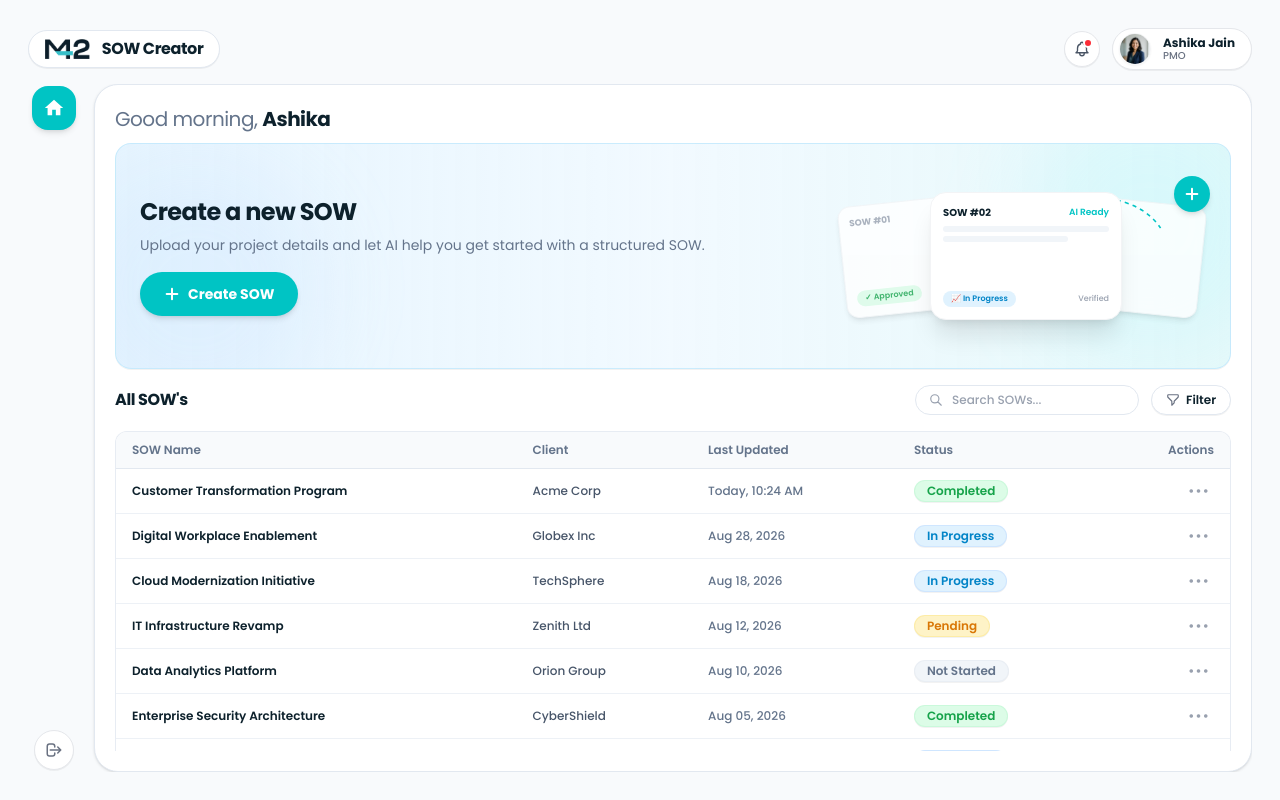
it: DashboardScreen Organism › opens create modal when + Create SOW button is clicked
Click the button "Create SOW" at (219, 294), box [140,272,298,316]
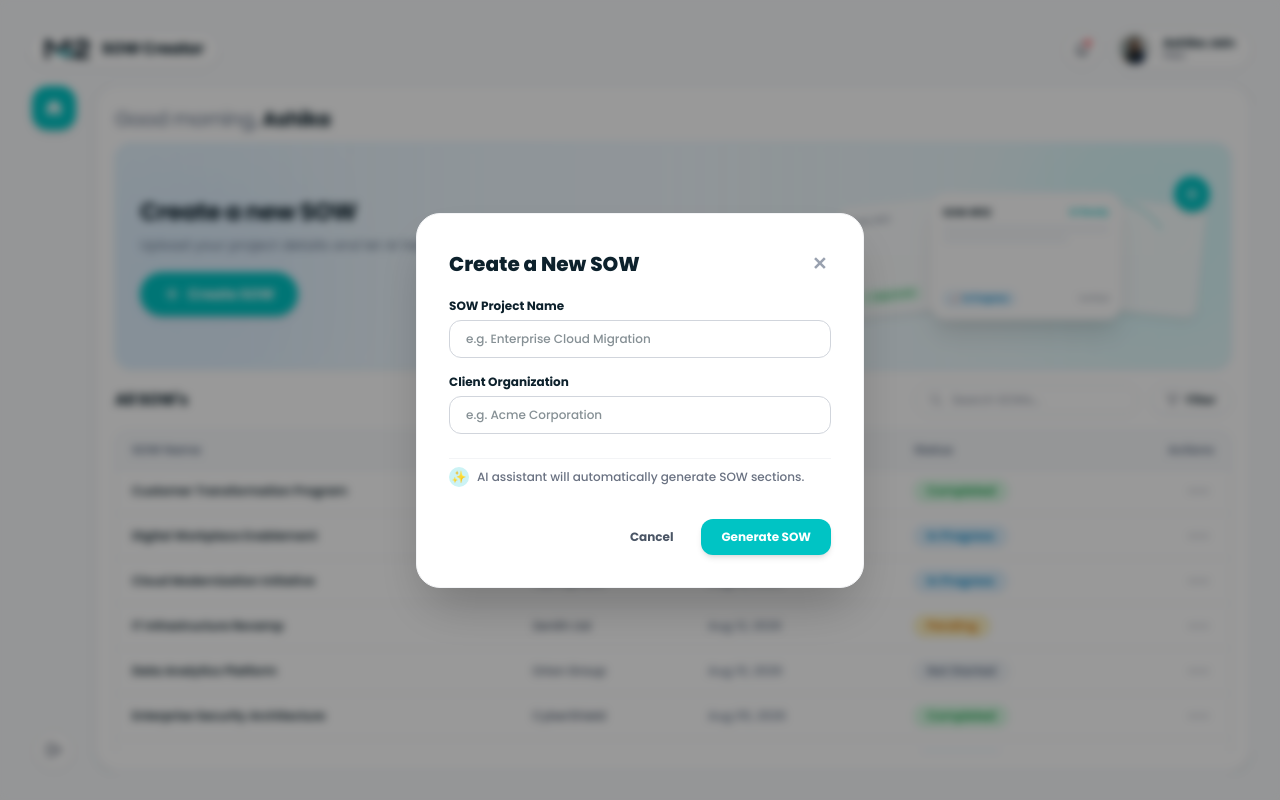
Expected: the heading "Create a New SOW" is shown, [449,250,640,278]
Expected: the field labelled "SOW Project Name" is shown, [449,320,831,358]
